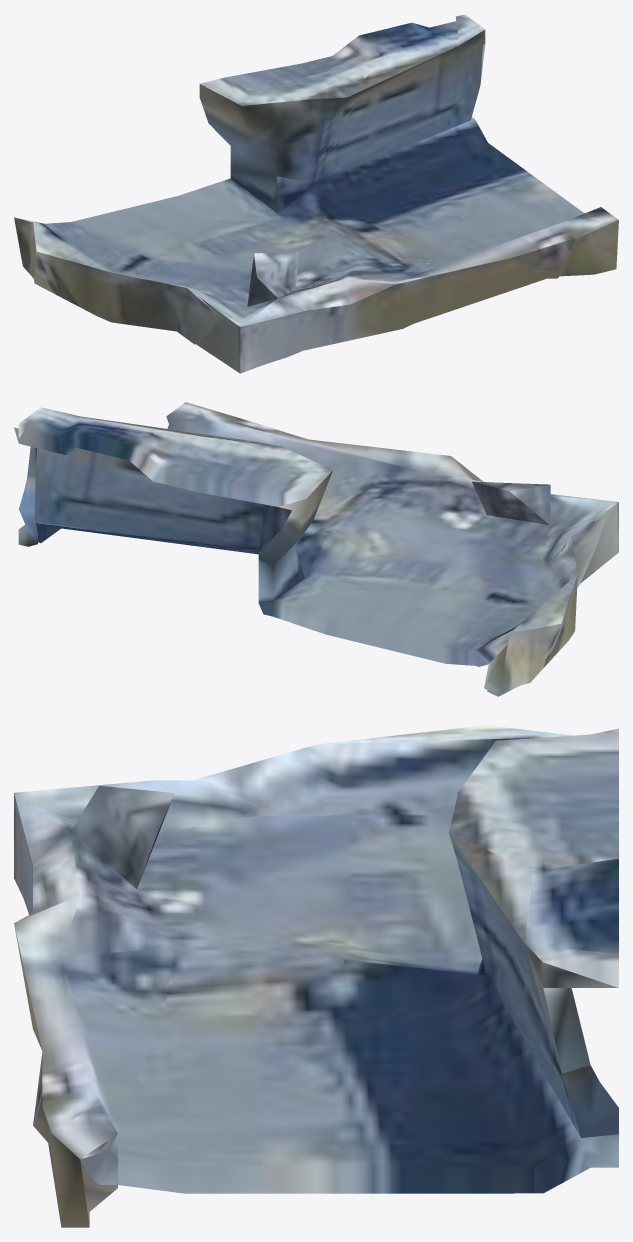
3 views of the same model, one above another, from view 1: azimuth 30°, elevation 25°; view 2: azimuth 150°, elevation 25°; view 3: azimuth 270°, elevation 25° (orthographic). The views are drawn at different scales.
Parts seen in each view (by area): view 1: 30436272704361707552_0; view 2: 30436272704361707552_0; view 3: 30436272704361707552_0.
Part boxes in pixels (x1,y1,x2,y2): 30436272704361707552_0: (14,14,618,373); 30436272704361707552_0: (14,402,618,696); 30436272704361707552_0: (14,725,618,1227).
Size of the model in its own units: 16.26 by 4.93 by 9.87.
1 material, 1 textured.
